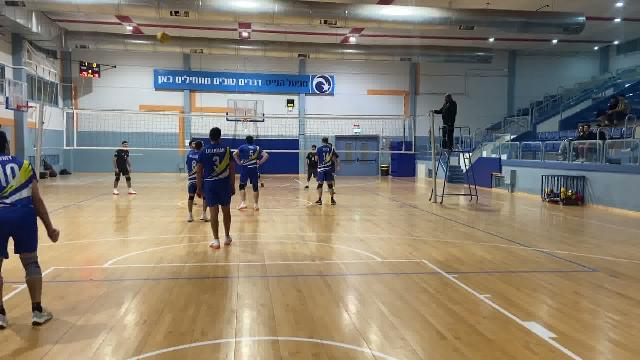ball: (155, 29, 172, 48)
